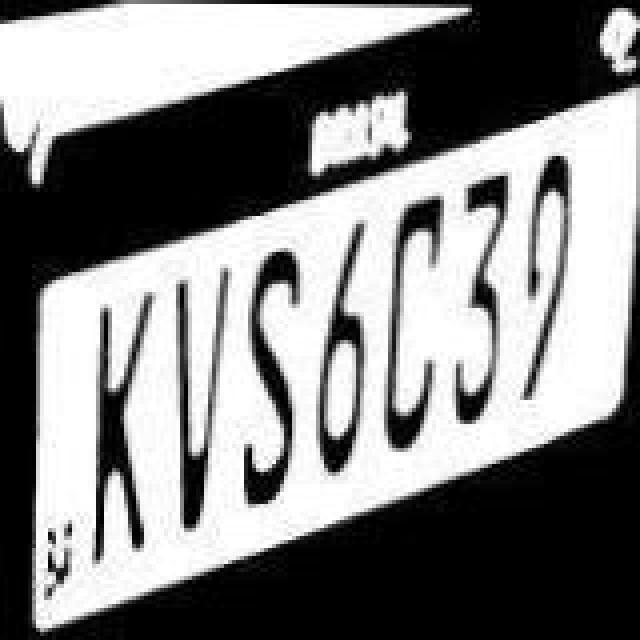3: (456, 162, 516, 434)
6: (314, 224, 370, 496)
9: (520, 142, 580, 414)
C: (388, 178, 448, 454)
K: (84, 282, 152, 578)
S: (230, 250, 302, 526)
V: (158, 262, 230, 542)
